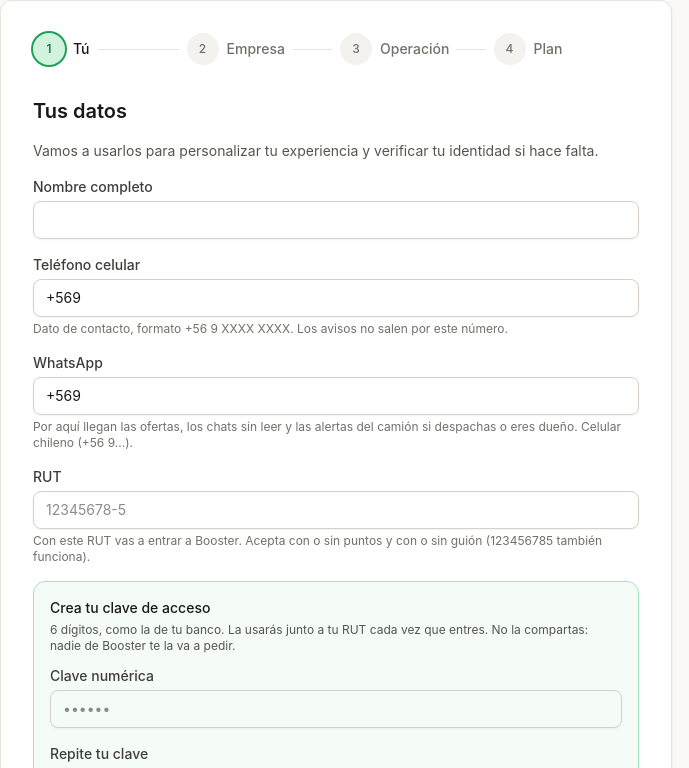
Scenario: OnboardingForm — navegación entre steps › step 1 con datos válidos → avanza a step 2
This screenshot has width=689, height=768.
Type "Felipe Vicencio" into the field labelled "Nombre completo" at (336, 220), box [33, 201, 639, 239]
Replace the text in the field labelled "Teléfono celular" with "+56912345678" at (336, 298), box [33, 279, 639, 317]
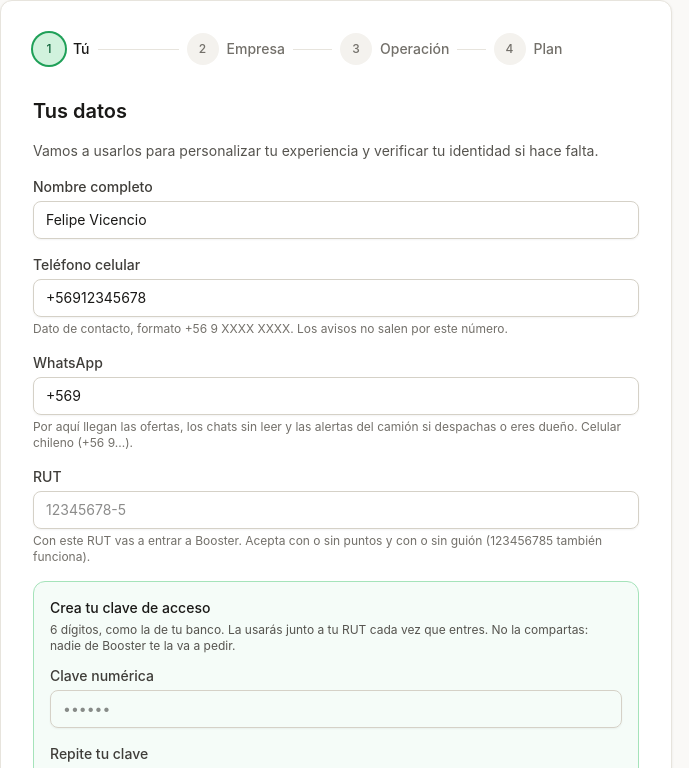
Replace the text in the field labelled "WhatsApp" with "+56912345678" at (336, 396), box [33, 377, 639, 415]
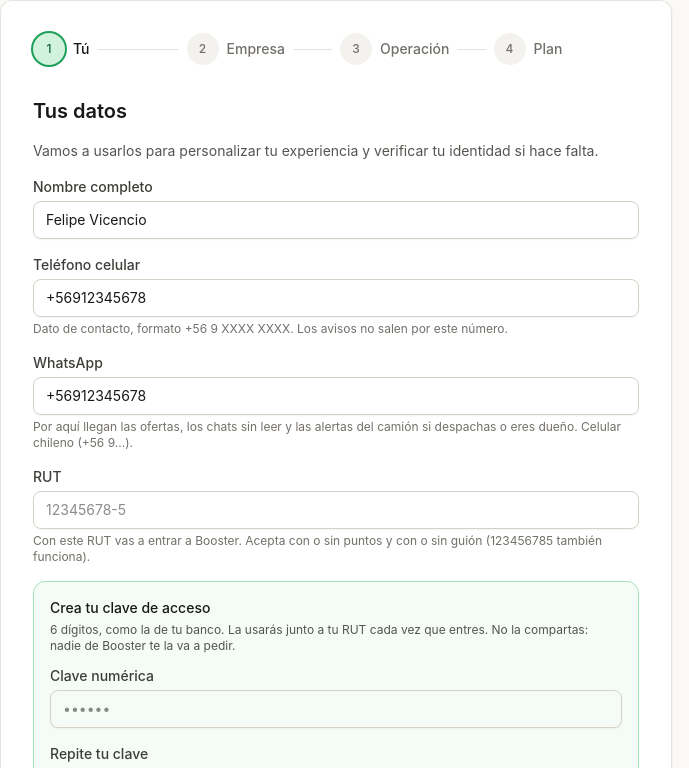
Type "11.111.111-1" into the field labelled "RUT" at (336, 510), box [33, 491, 639, 529]
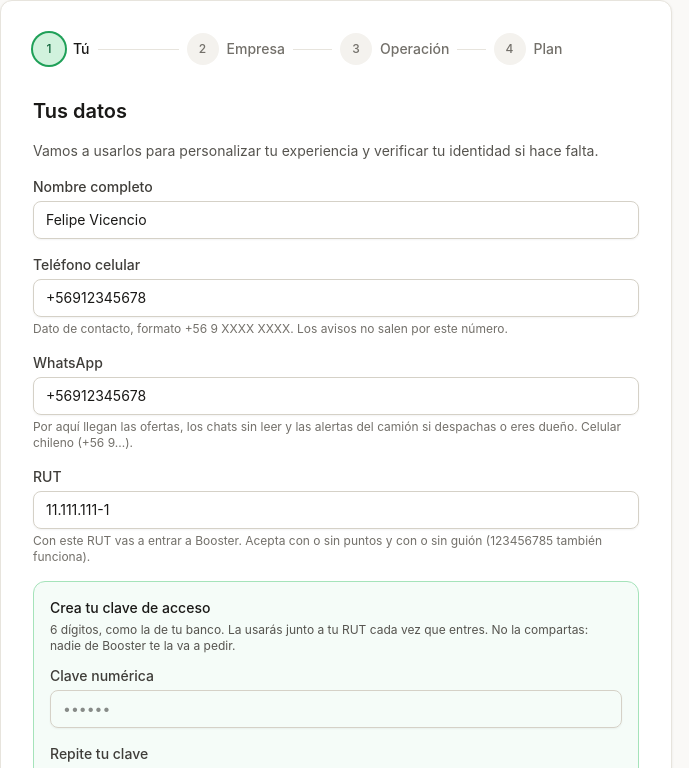
Type "482915" into the password field labelled "Clave numérica" at (336, 709), box [50, 690, 622, 728]
(page scrolled)
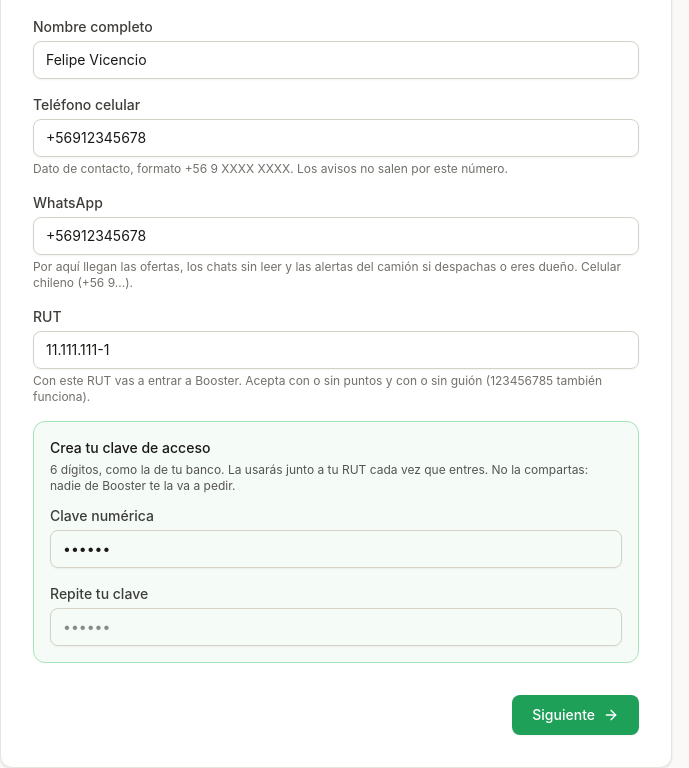
Type "482915" into the password field labelled "Repite tu clave" at (336, 627), box [50, 608, 622, 646]
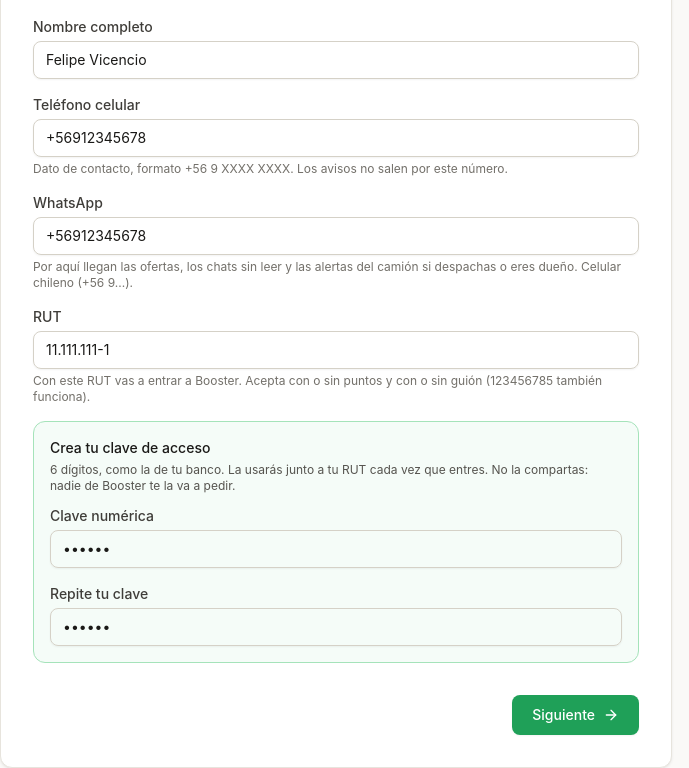
Click the button "Siguiente" at (576, 715), box [512, 695, 639, 735]
(page scrolled)
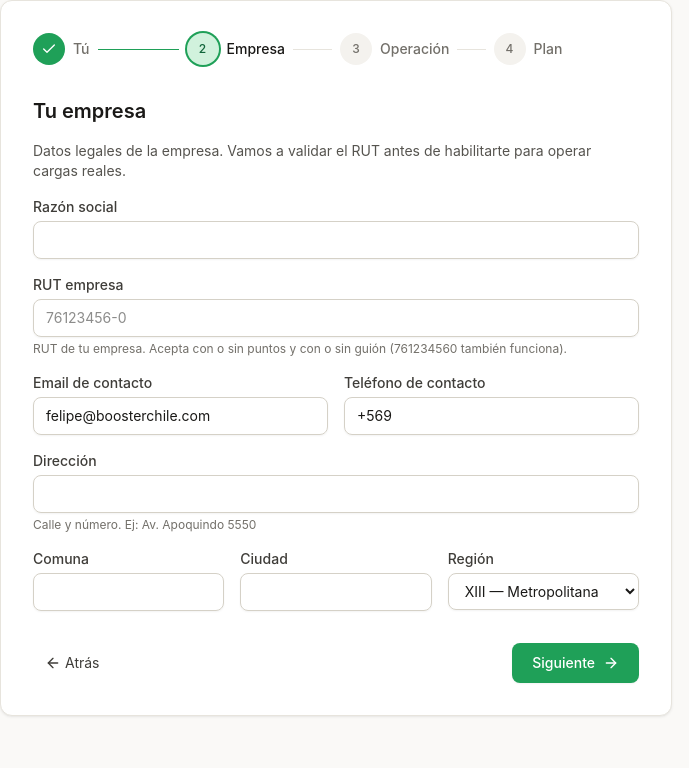
Check: the heading "Tu empresa" is shown, box [33, 99, 146, 123]
